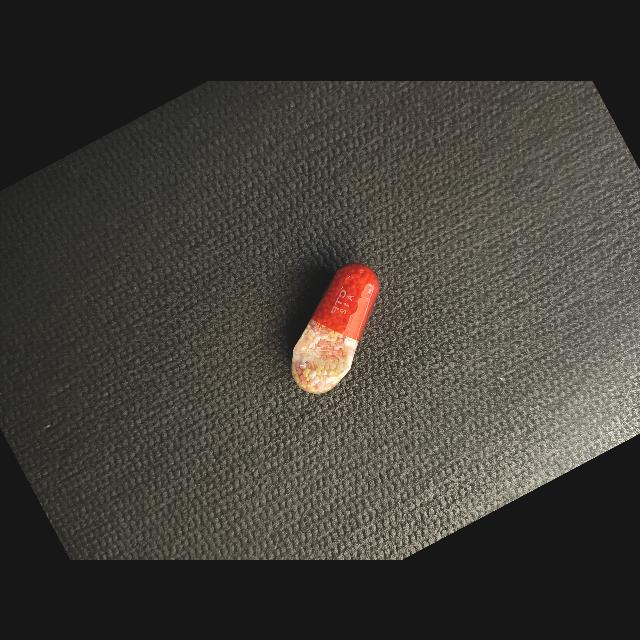Defective Capsule: (291, 263, 379, 393)
